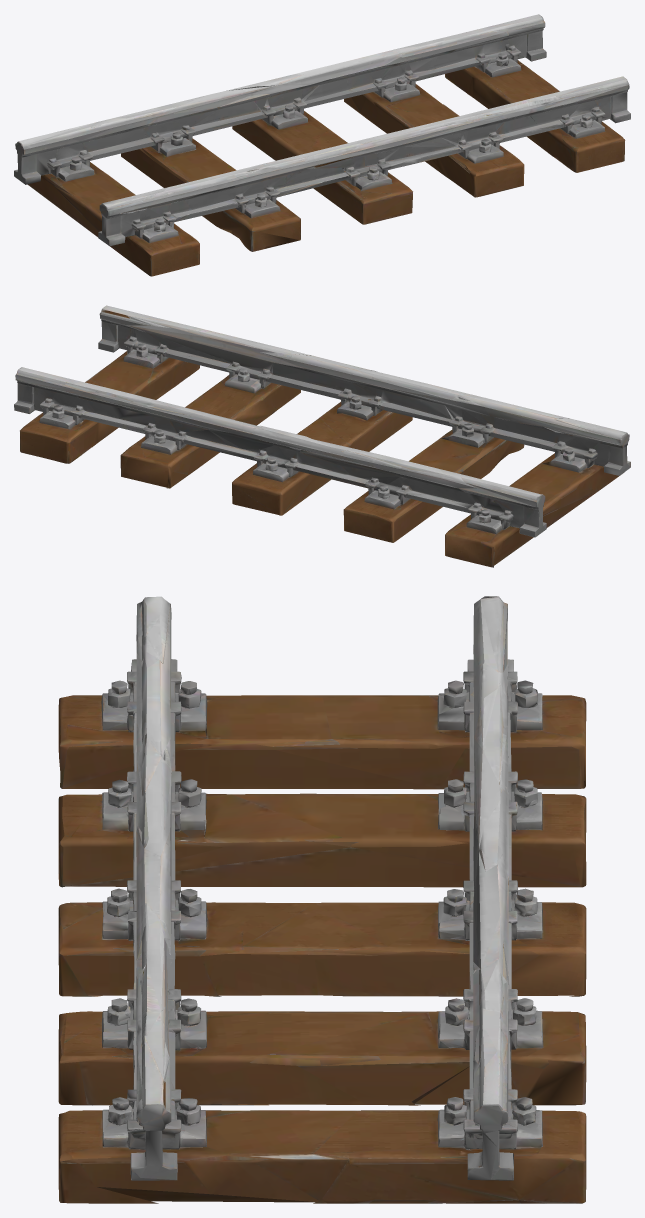
Rendered from upm_mu5vzsvwss.glb.
3 renders of one model, top to bottom at view 1: azimuth 30°, elevation 25°; view 2: azimuth 150°, elevation 25°; view 3: azimuth 270°, elevation 25°, orthographic. The views are drawn at different scales.
Bounding box in the file's own units: 1.9 × 0.2133 × 0.834.
Materials: 1 (1 with a texture image).
